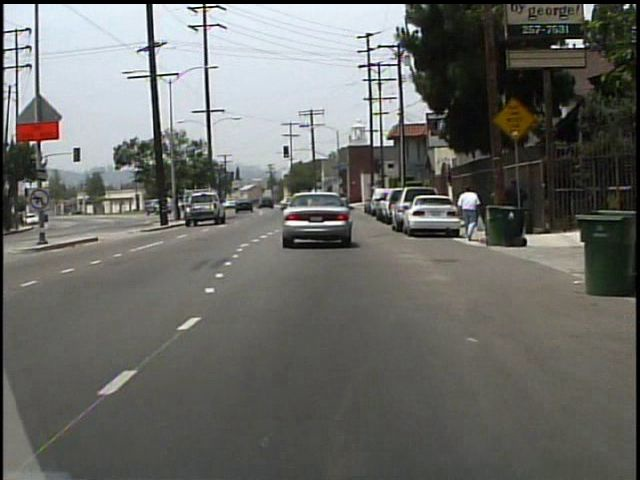person: (455, 185, 482, 244)
